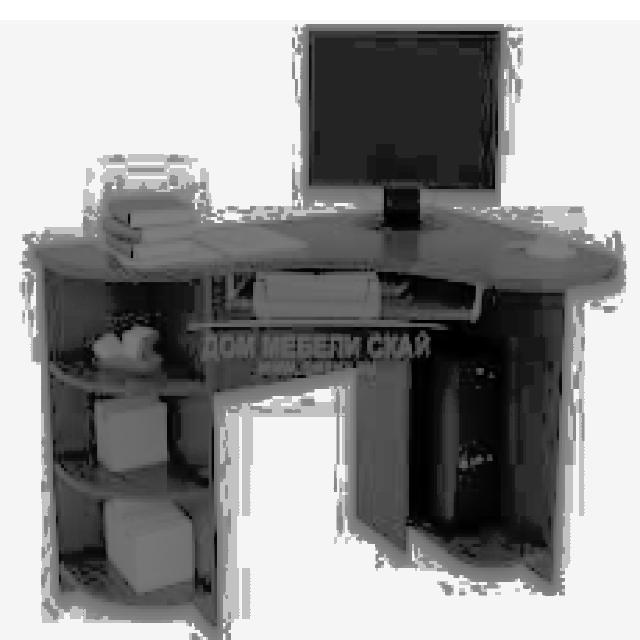table: (30, 200, 620, 626)
